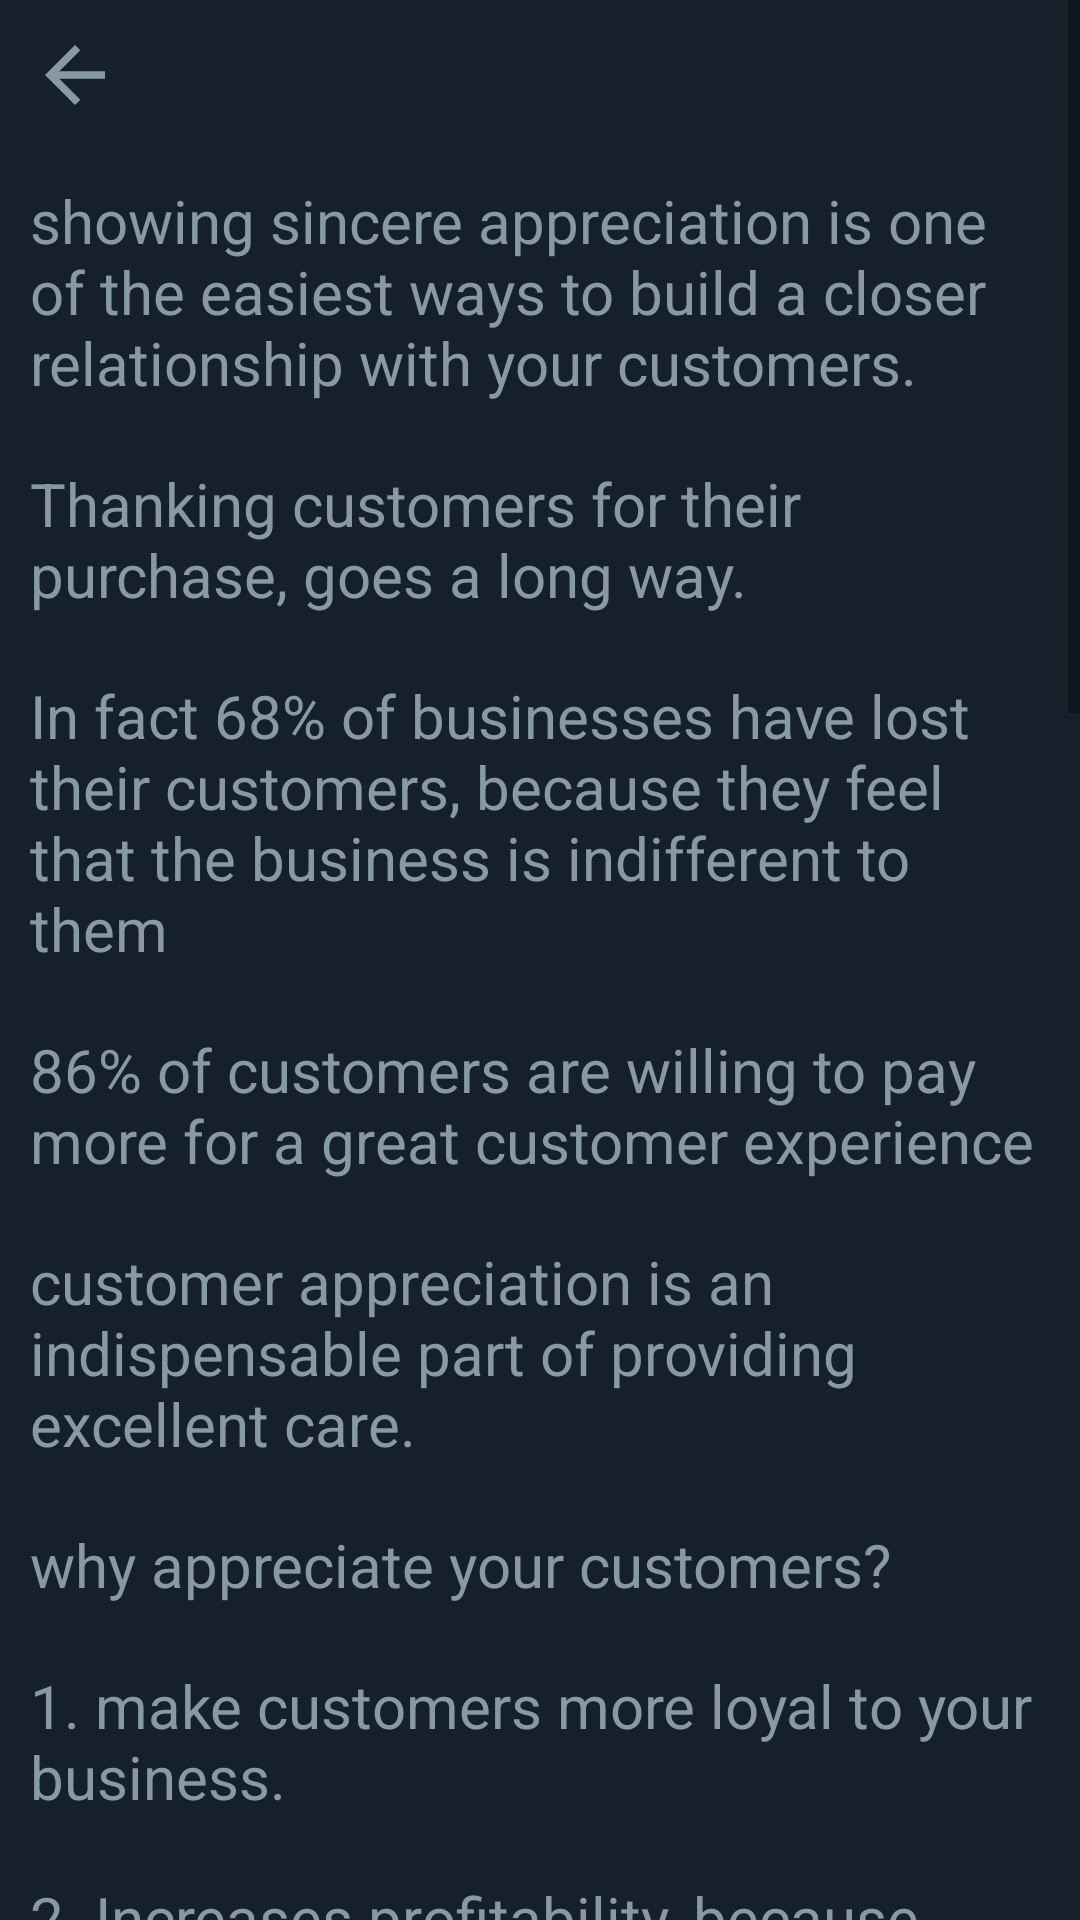

Named icons in this screenshot (1080w x 1920h) and their bounding boxes, (x1, y1, x2, y2):
arrow back: (45, 45, 105, 105)
